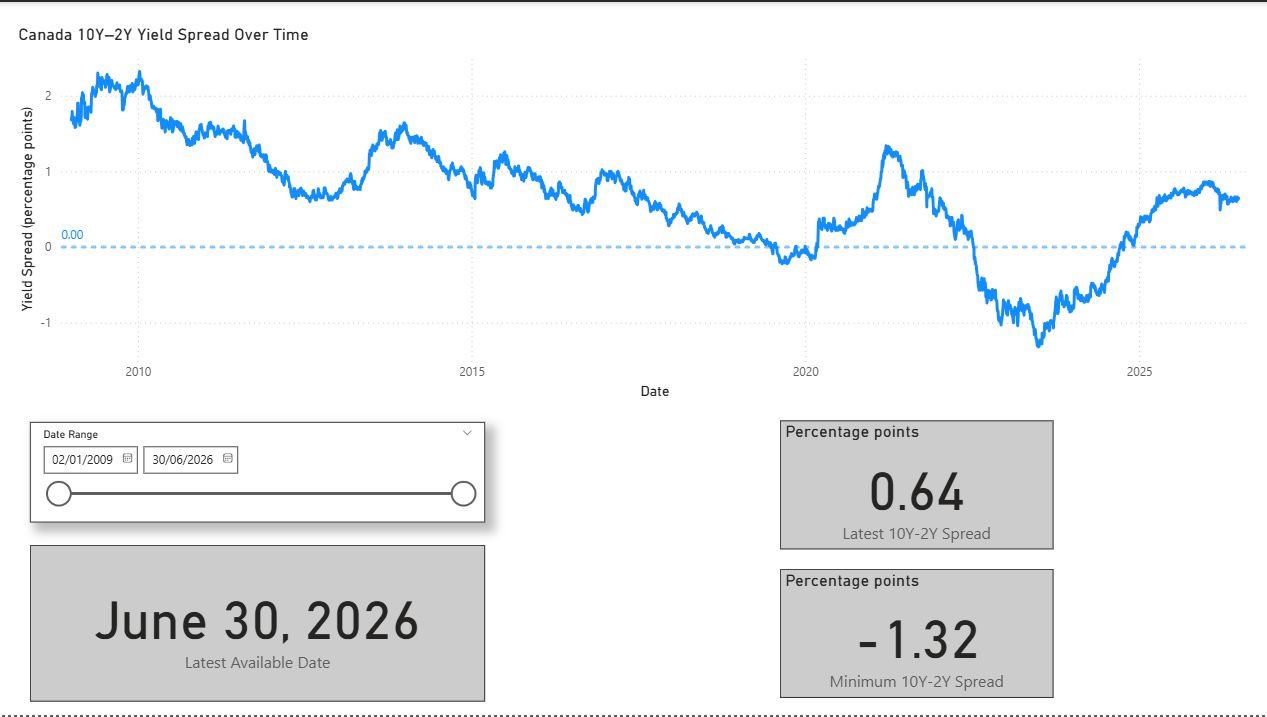

What the dashboard file says about the page in this screenshot:
{"tool":"powerbi","page":{"name":"Yield Spread Overview","canvas":[1280,720],"ordinal":0},"visuals":[{"type":"lineChart","title":"Canada 10Y–2Y Yield Spread Over Time","fields":{"Y":["Avg(BoC Market Data.yield_spread_10y_2y)"],"Category":["BoC Market Data.date"]},"box":[13.4,22.4,1254.6,381.9],"z":0},{"type":"card","title":"Percentage points","fields":{"Values":["BoC Market Data.Latest 10Y-2Y Spread"]},"box":[787.6,422.2,276,129.8],"z":1000},{"type":"card","fields":{"Values":["BoC Market Data.Latest Available Date"]},"box":[29.8,547.5,459.5,158.1],"z":2000},{"type":"card","title":"Percentage points","fields":{"Values":["BoC Market Data.Minimum 10Y-2Y Spread"]},"box":[787.6,572.8,276,129.8],"z":3000},{"type":"slicer","fields":{"Values":["Spread Volatility Data.date"]},"box":[29.8,423.7,459.5,101.4],"z":4000}]}

Visuals, with their boxes in screenshot pixels (x1, y1, x2, y2), scaled from the page's 1280x720 canvas onto the 1267x717 screenshot:
"Canada 10Y–2Y Yield Spread Over Time" lineChart: x1=13 y1=22 x2=1255 y2=403
"Percentage points" card: x1=780 y1=420 x2=1053 y2=550
card - BoC Market Data.Latest Available Date: x1=29 y1=545 x2=484 y2=703
"Percentage points" card: x1=780 y1=570 x2=1053 y2=700
slicer - Spread Volatility Data.date: x1=29 y1=422 x2=484 y2=523
